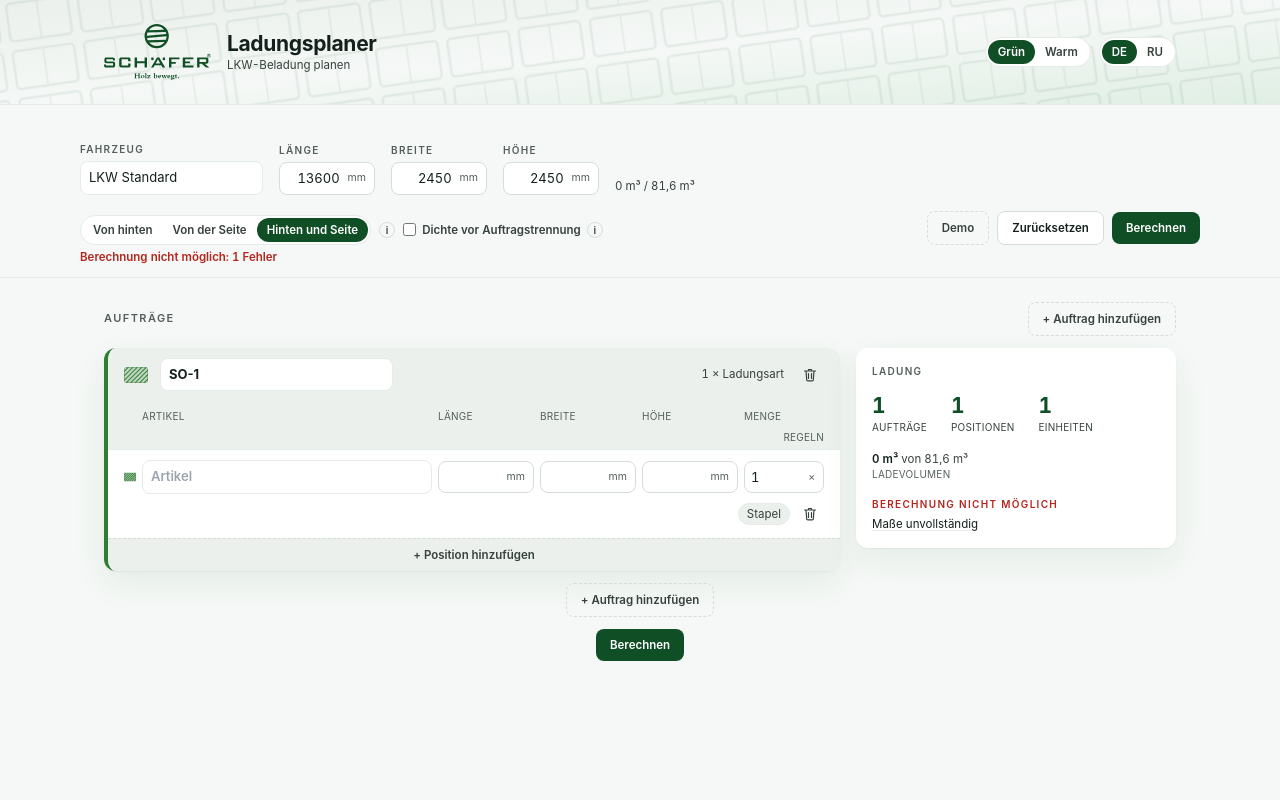
Test: SetupScreen › reset clears the setup back to defaults (#4)
This screenshot has width=1280, height=800.
Replace the text in the field named "Auftrags-ID" with "SO-77": (276, 375) [160,358,393,391]
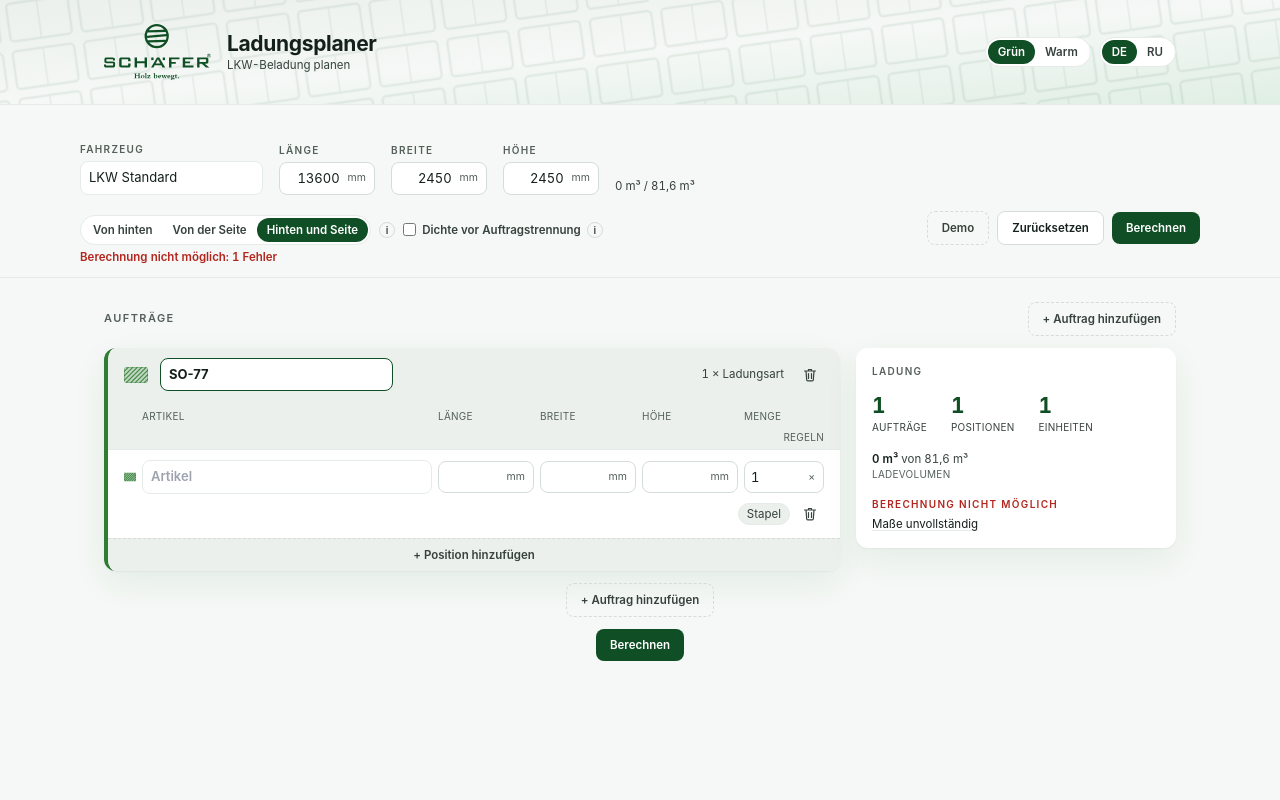
Click the button "Zurücksetzen": (1051, 228) [997,210,1104,245]
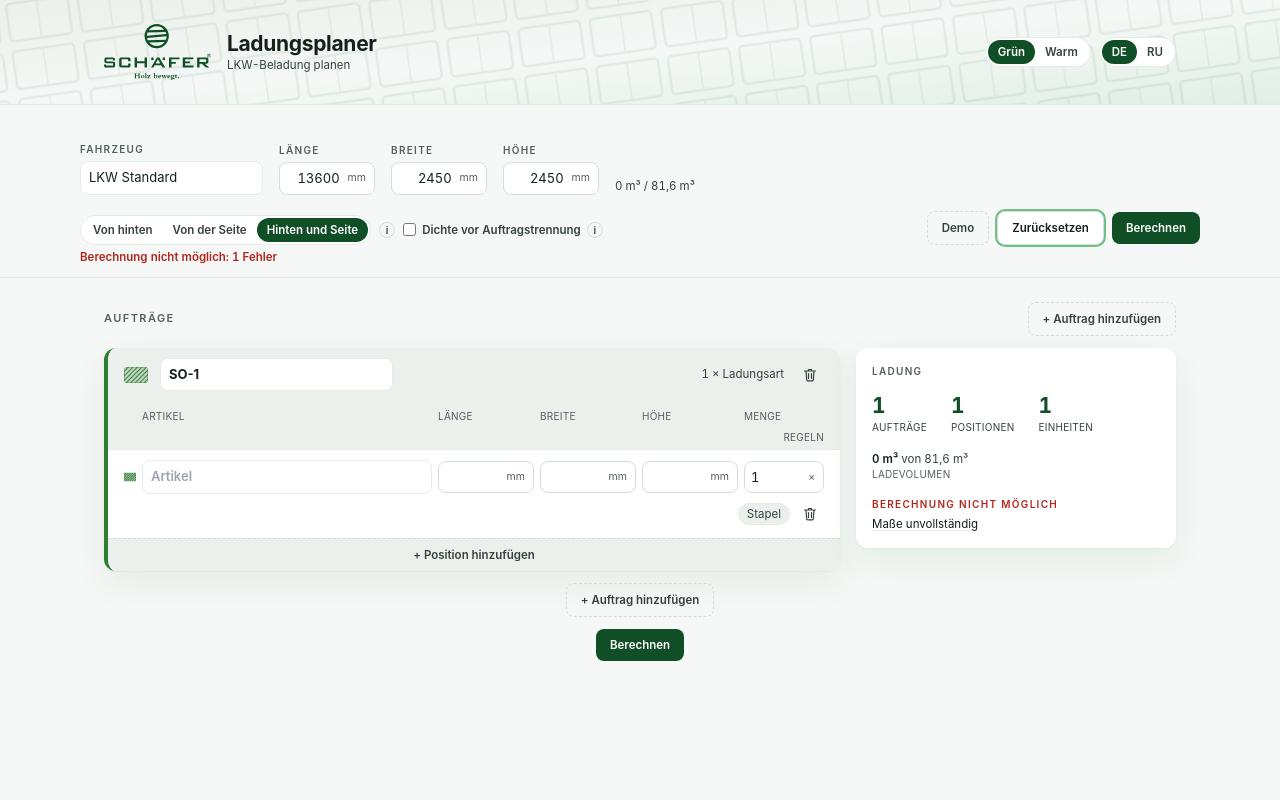
Now the field named "Auftrags-ID" holds "SO-1", box [160,358,393,391]
